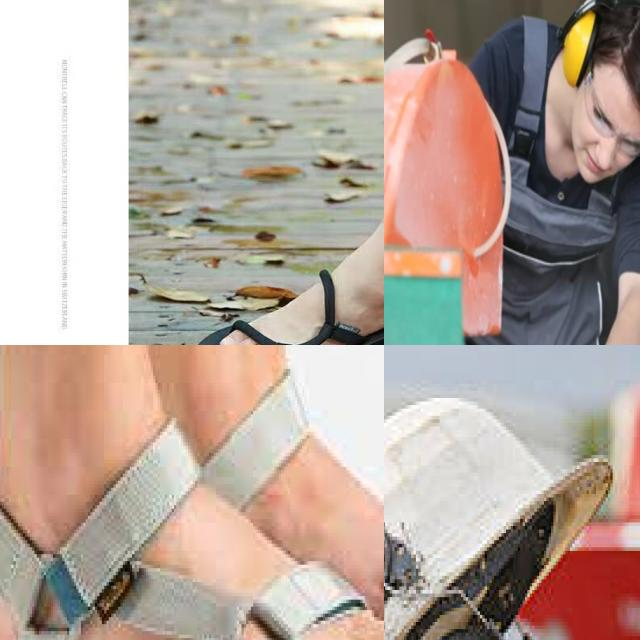Ear-protection: (550, 0, 640, 205)
Sandals: (0, 372, 384, 640), (161, 218, 384, 345)
head_helmet: (384, 348, 612, 640)
